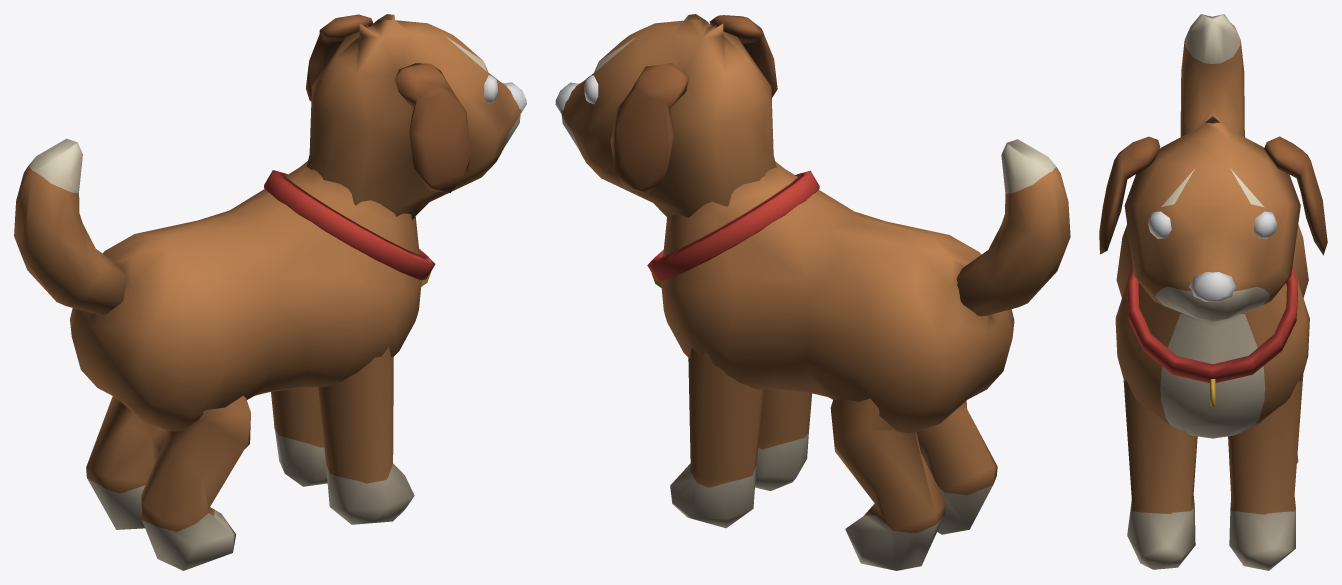
File: Dog.fbx
3 renders of one model, left to right at view 1: azimuth 30°, elevation 25°; view 2: azimuth 150°, elevation 25°; view 3: azimuth 270°, elevation 25°, orthographic. The views are drawn at different scales.
Parts seen in each view (by area): view 1: Body, Head, LegBR, Tail, LegFR, EarR, LegBL, LegFL, EarL; view 2: Body, Head, LegBL, Tail, LegFL, EarL, LegBR, LegFR, EarR; view 3: Head, Body, LegFL, LegFR, Tail, EarL, EarR.
Boxes of the visible parts, x1,y1,x2,y2 form: Body: [70, 161, 435, 431]; Head: [306, 14, 526, 219]; LegBR: [141, 395, 250, 570]; Tail: [14, 138, 127, 314]; LegFR: [318, 347, 414, 524]; EarR: [395, 63, 471, 192]; LegBL: [86, 396, 167, 529]; LegFL: [271, 387, 327, 486]; EarL: [306, 14, 373, 101]; Body: [647, 161, 1014, 433]; Head: [555, 14, 776, 219]; LegBL: [830, 398, 946, 570]; Tail: [956, 139, 1070, 316]; LegFL: [670, 348, 764, 528]; EarL: [610, 63, 688, 194]; LegBR: [916, 401, 997, 534]; LegFR: [755, 389, 811, 491]; EarR: [709, 15, 777, 97]; Head: [1124, 107, 1300, 321]; Body: [1115, 224, 1309, 438]; LegFL: [1228, 372, 1303, 570]; LegFR: [1123, 379, 1197, 569]; Tail: [1180, 14, 1244, 136]; EarL: [1264, 136, 1327, 255]; EarR: [1099, 136, 1160, 254].
Bounding box in the file's own units: 0.6379 × 0.5747 × 0.2582.
